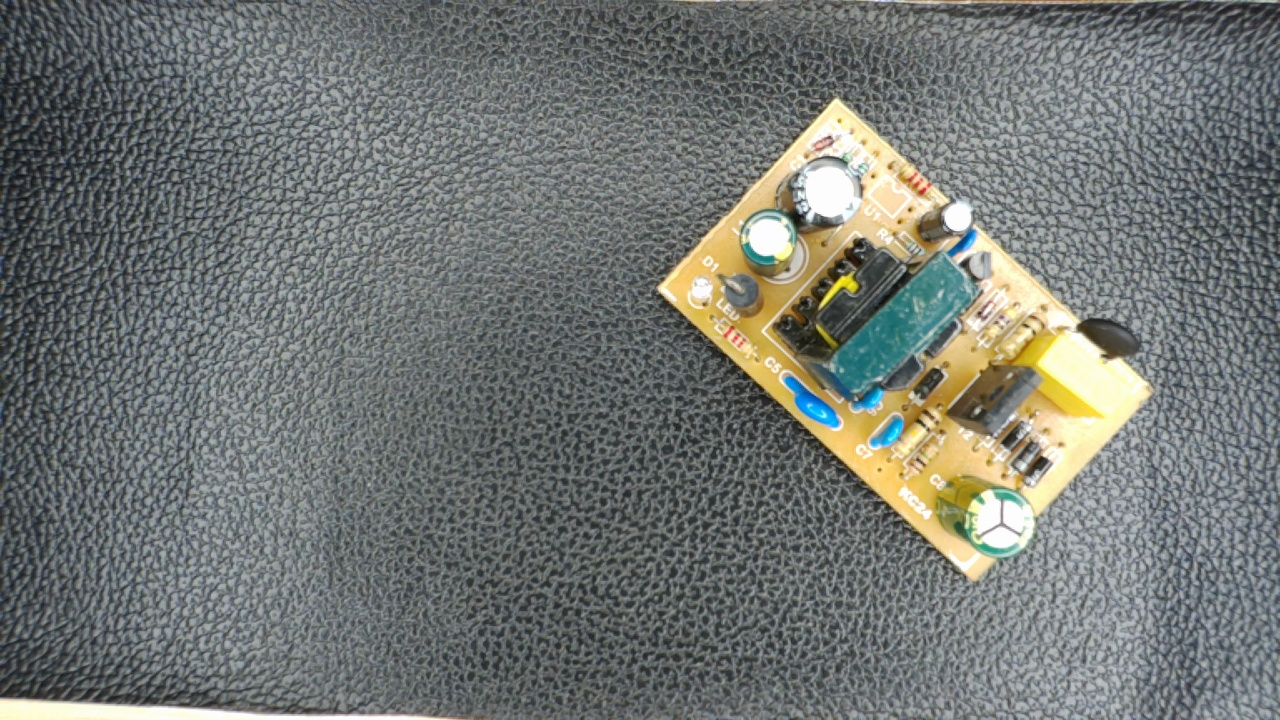fuse: (1053, 315, 1139, 365)
hv_capacitor: (930, 476, 1037, 557)
mov: (773, 366, 848, 435)
